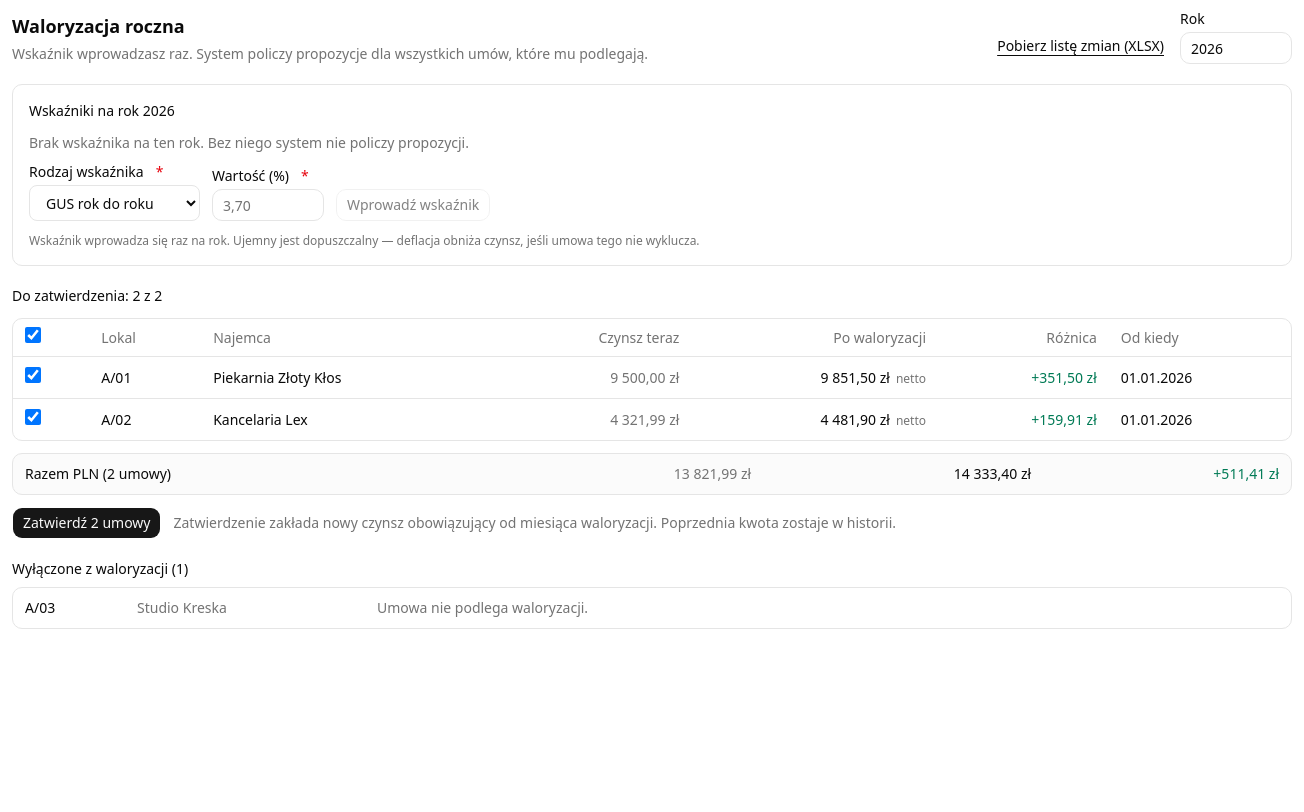
Test: Ekran waloryzacji › odznaczenie umowy zmienia sumę, bo pyta o nią serwer
Expected: the text "A/01" is shown, x1=89 y1=356 x2=201 y2=398
Expected: the text "Razem PLN (2 umowy)" is shown, x1=13 y1=454 x2=483 y2=494
Click the checkbox named "Zatwierdź A/02".
click(33, 417)  # box x1=25 y1=409 x2=41 y2=425
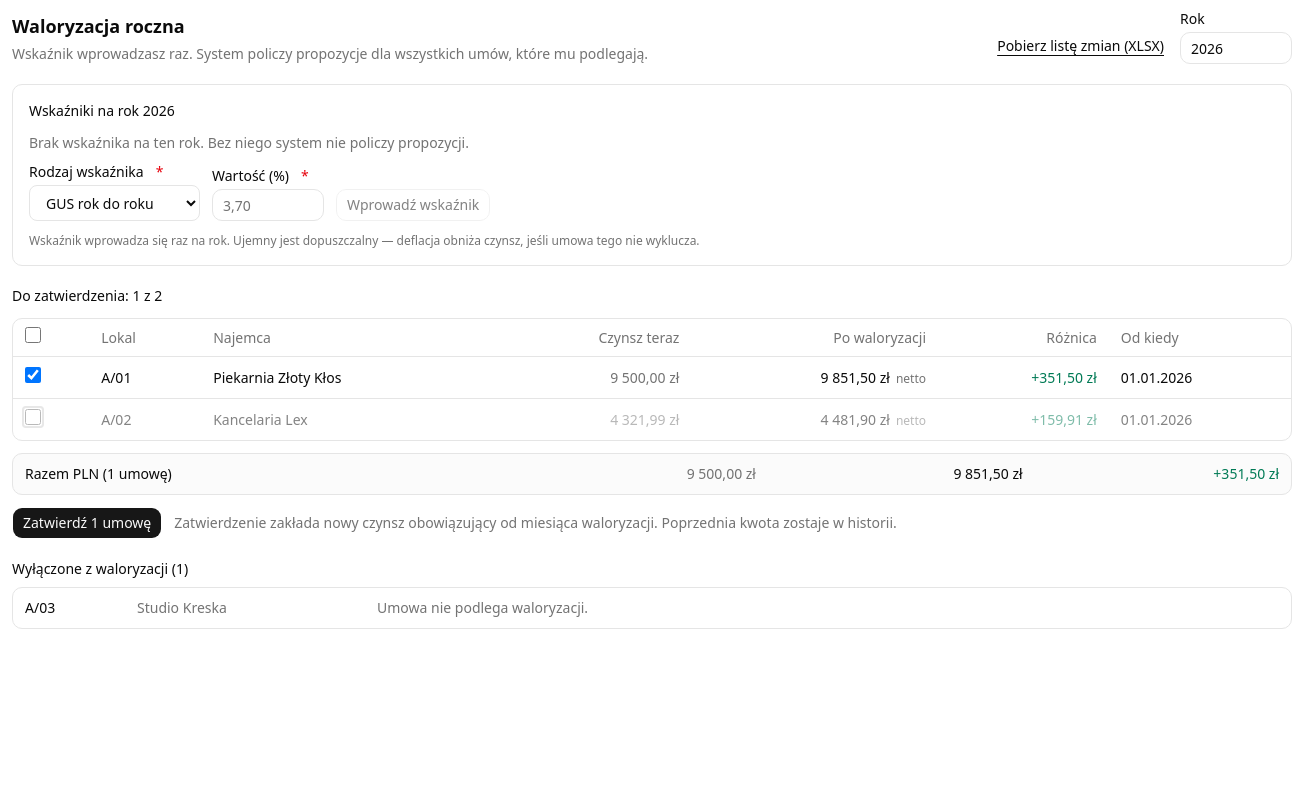
Result: the text "Razem PLN (1 umowę)" is shown at x1=13 y1=454 x2=501 y2=494
Result: the text "9 500,00 zł" in the row of "Razem" is shown at x1=687 y1=464 x2=756 y2=483
Result: the text "9 851,50 zł" is shown at x1=768 y1=454 x2=1035 y2=494
